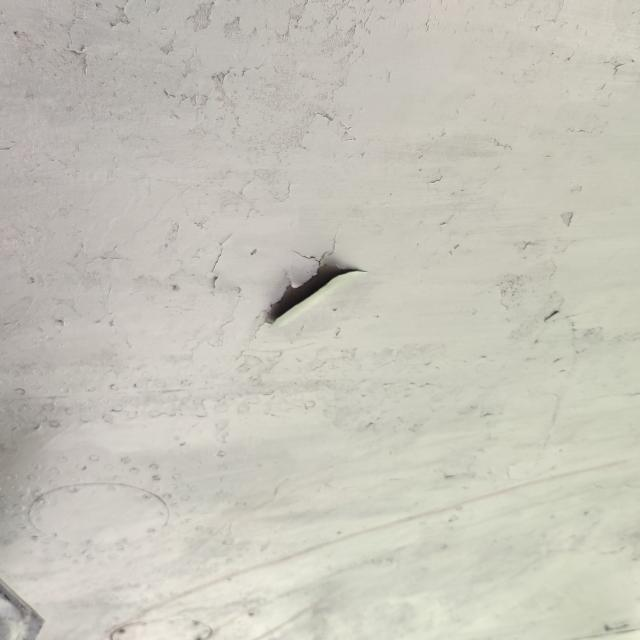paint-off: (250, 241, 378, 342)
